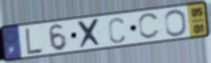6: (47, 22, 69, 52)
C: (137, 11, 161, 41), (108, 16, 127, 45)
L: (24, 26, 45, 55)
O: (164, 8, 189, 38)
X: (76, 17, 103, 50)
